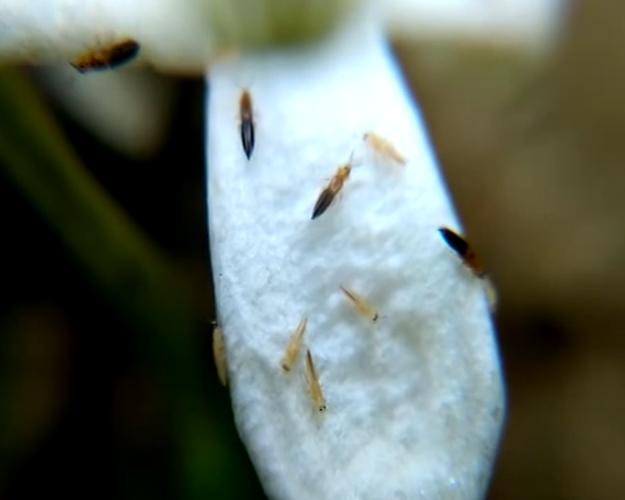Phlaeothripidae: (308, 150, 367, 220), (436, 222, 489, 289), (230, 79, 261, 162), (336, 281, 382, 327)
